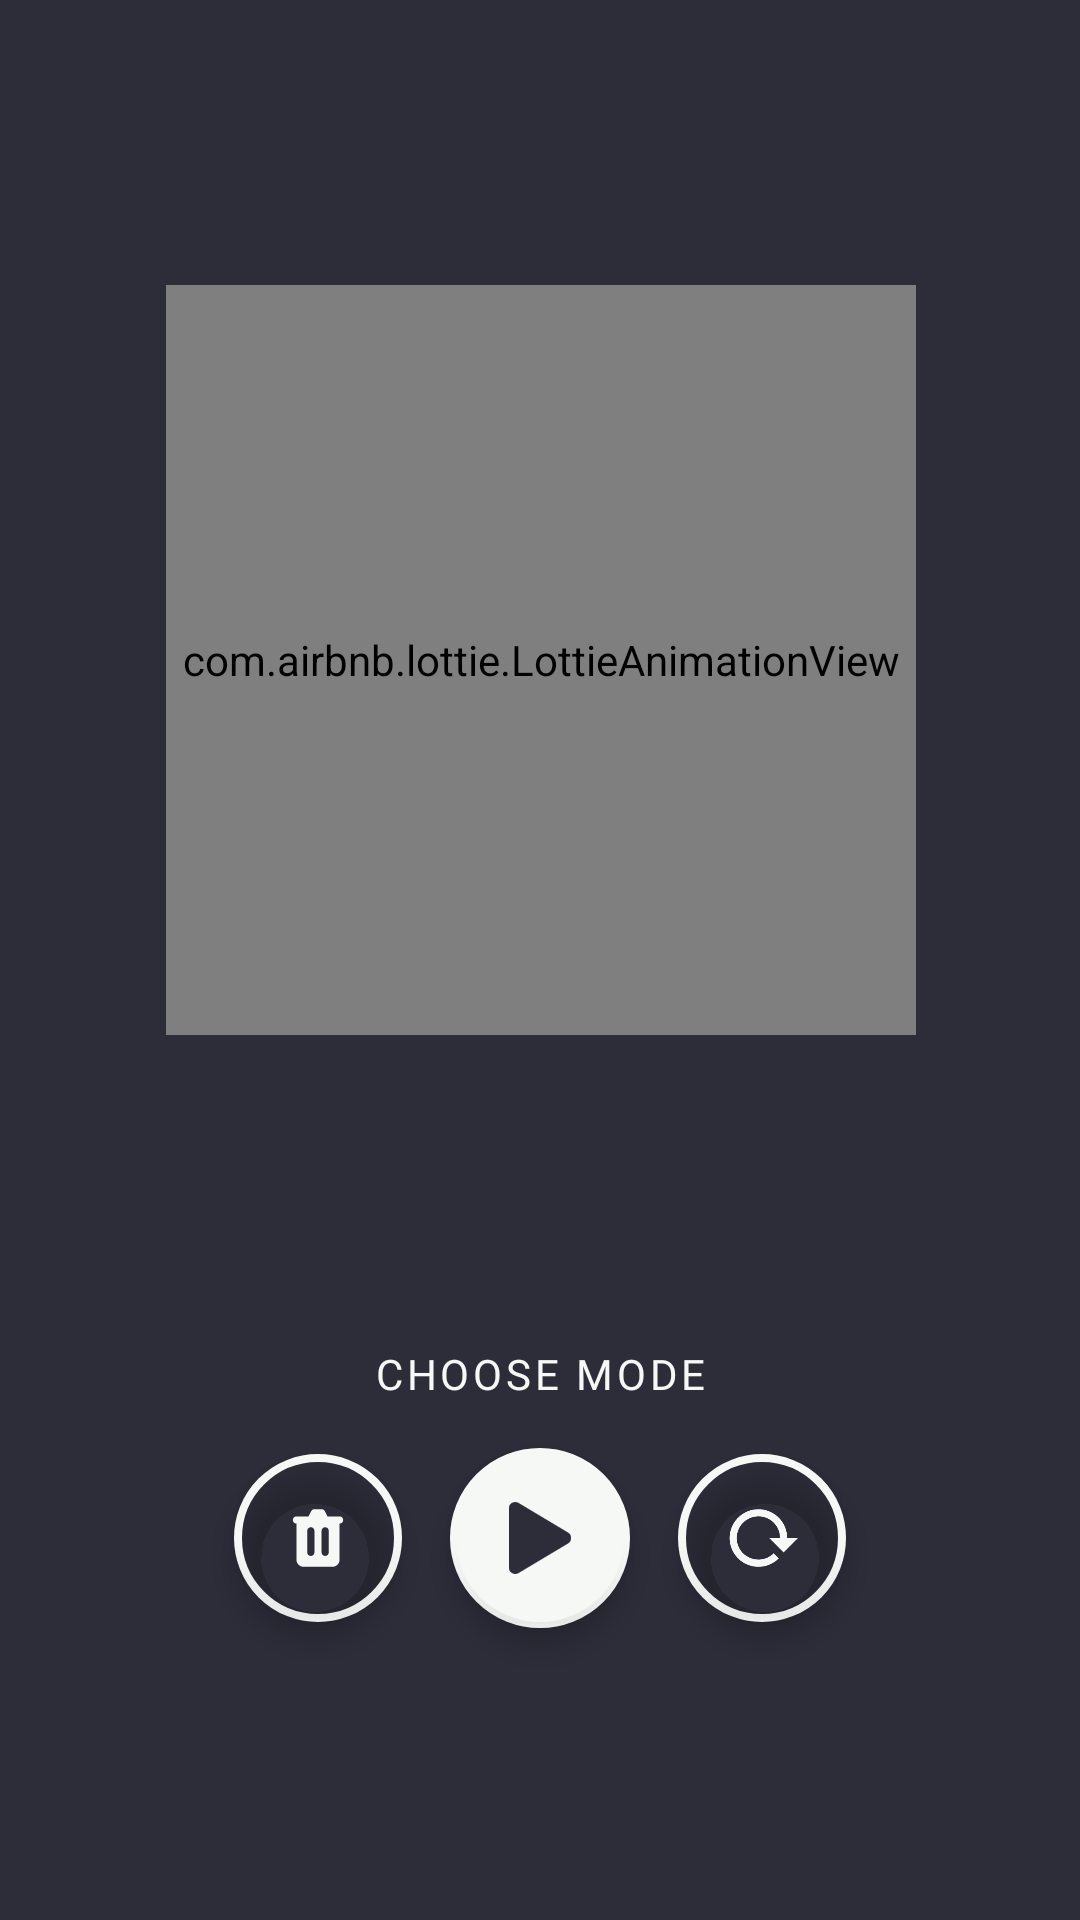

Named icons in this screenshot (1080px x 1920px) and their centers, (x,y):
Clean button: (318,1538)
Refresh button: (762,1538)
